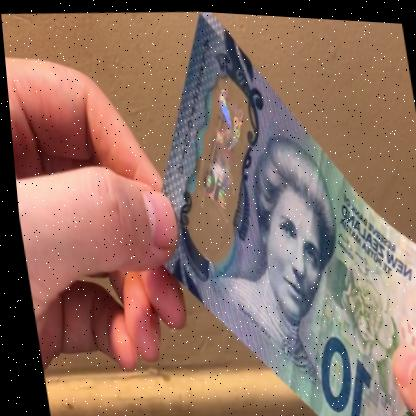10B: (184, 81, 259, 211)
